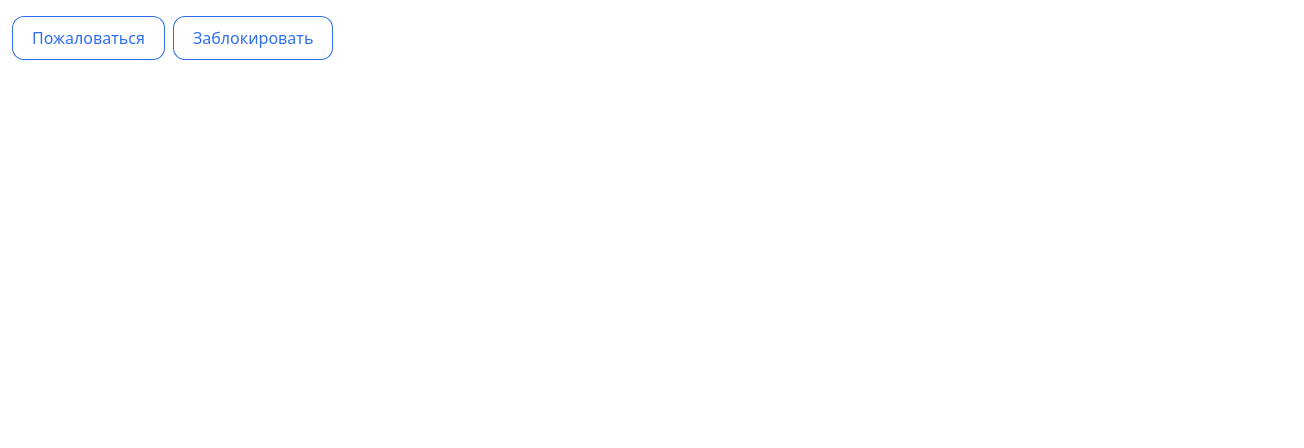
Test: <Safety> › says so when the match was reported before, and keeps the form when sending fails
This screenshot has width=1304, height=448.
Click the button "Пожаловаться".
click(88, 38)  # box [12, 16, 165, 60]
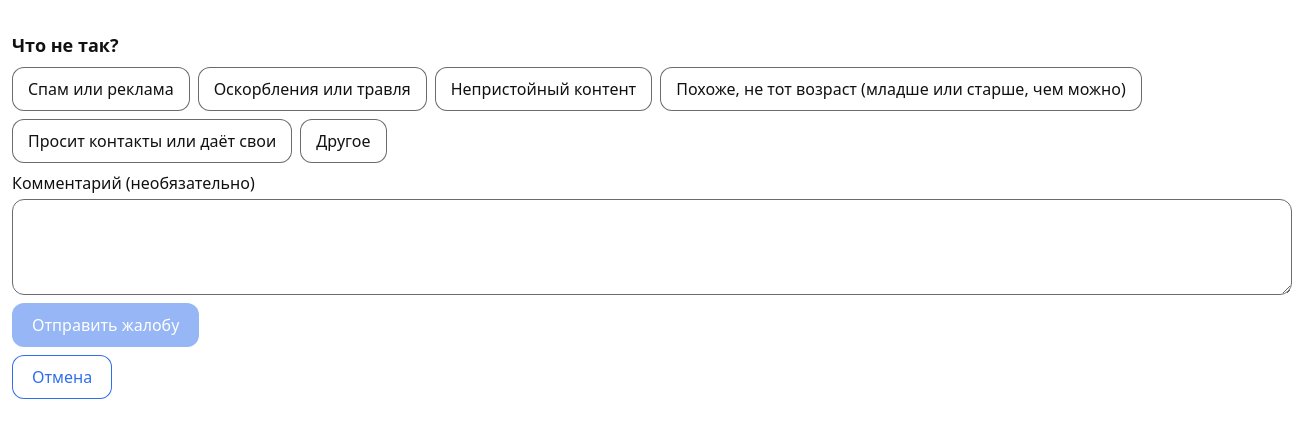
Click the button "Спам или реклама".
click(101, 89)  # box [12, 67, 190, 111]
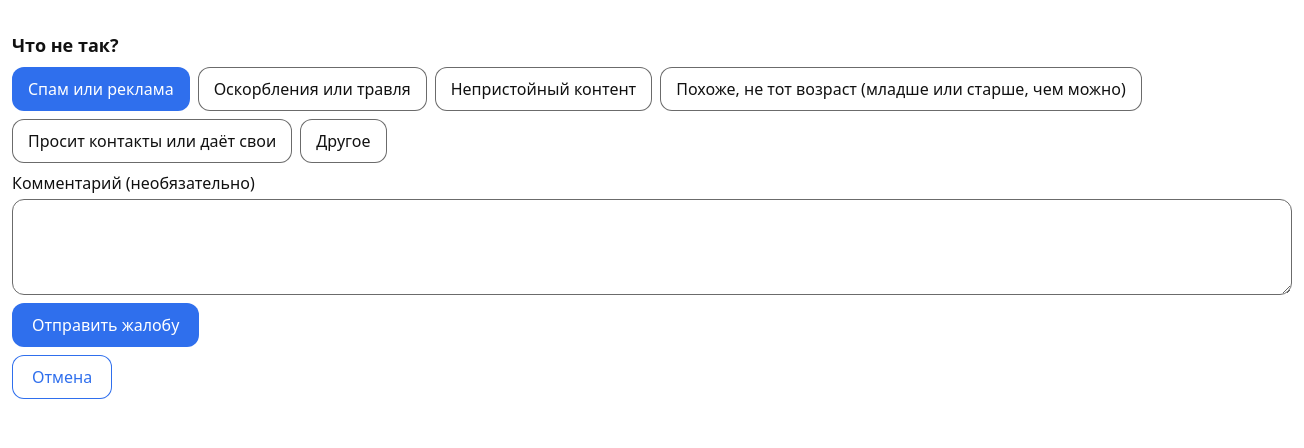
Click the button "Отправить жалобу".
click(106, 325)  # box [12, 303, 199, 347]
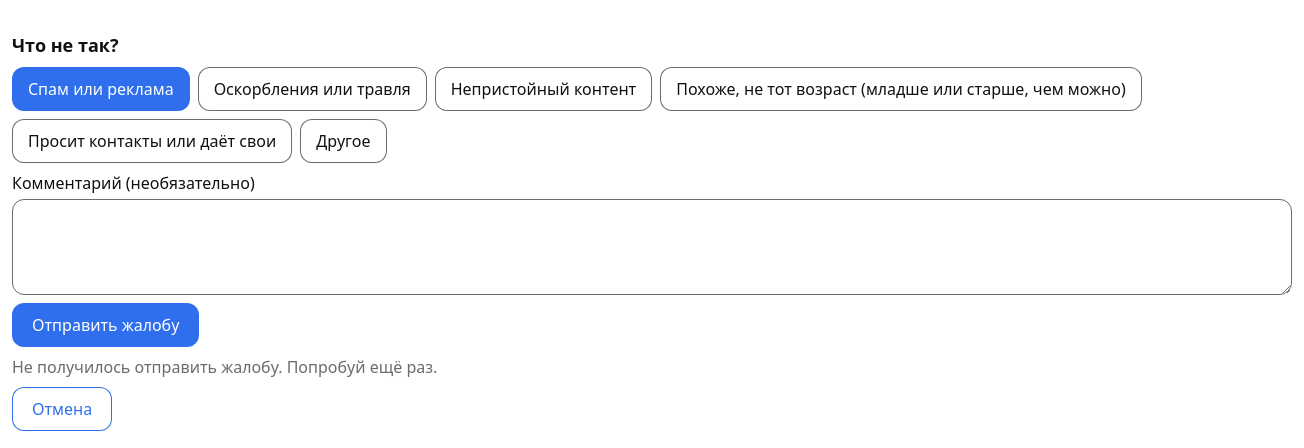
expect the text "Не получилось отправить жалобу. Попробуй ещё раз." is shown: met, box [12, 356, 437, 378]
Click the button "Отправить жалобу".
click(106, 325)  # box [12, 303, 199, 347]
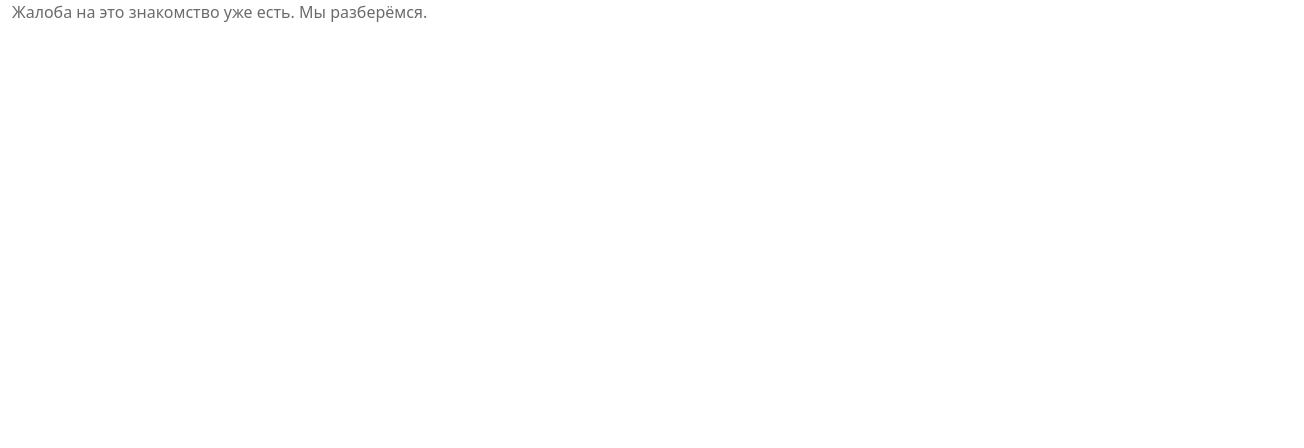
expect the text "Жалоба на это знакомство уже есть. Мы разберёмся." is shown: met, box [12, 1, 427, 23]
